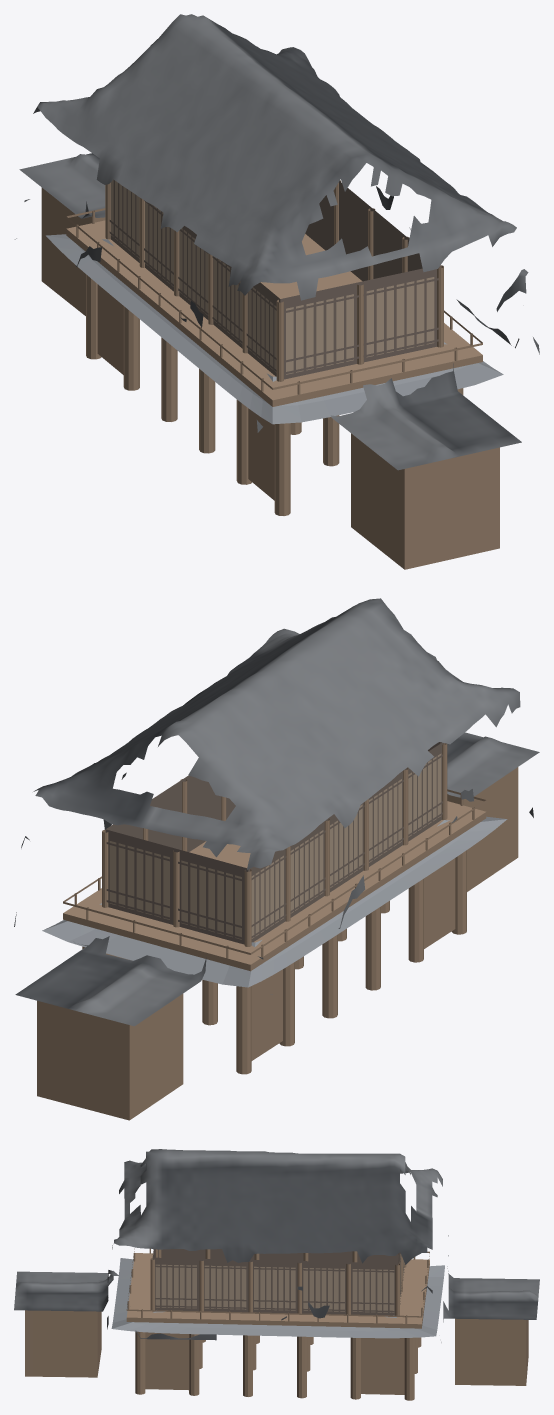
Rendered from nanzenji-sanmon.glb.
The picture shows the model from 3 angles, top to bottom: view 1: azimuth 30°, elevation 25°; view 2: azimuth 150°, elevation 25°; view 3: azimuth 270°, elevation 25°; orthographic projection. The views are drawn at different scales.
Parts seen in each view (by area): view 1: Measured roof, Weathered timber, Timber in shade, Shutter slats, Glazed lower eaves; view 2: Measured roof, Weathered timber, Timber in shade, Shutter slats, Glazed lower eaves; view 3: Measured roof, Weathered timber, Timber in shade, Shutter slats, Glazed lower eaves.
Boxes of the visible parts, x1,y1,x2,y2 form: Measured roof: [14, 14, 539, 470]; Weathered timber: [41, 180, 499, 569]; Timber in shade: [109, 180, 440, 379]; Shutter slats: [110, 179, 434, 374]; Glazed lower eaves: [46, 234, 503, 424]; Measured roof: [14, 598, 539, 1026]; Weathered timber: [37, 743, 518, 1120]; Timber in shade: [105, 742, 443, 944]; Shutter slats: [109, 753, 441, 939]; Glazed lower eaves: [42, 816, 507, 987]; Measured roof: [14, 1149, 539, 1342]; Weathered timber: [25, 1248, 528, 1400]; Timber in shade: [152, 1249, 405, 1315]; Shutter slats: [155, 1254, 404, 1312]; Glazed lower eaves: [111, 1258, 444, 1338].
Bounding box in the file's own units: 20.38 × 21.9 × 48.69.
Materials: 5 (1 with a texture image).
